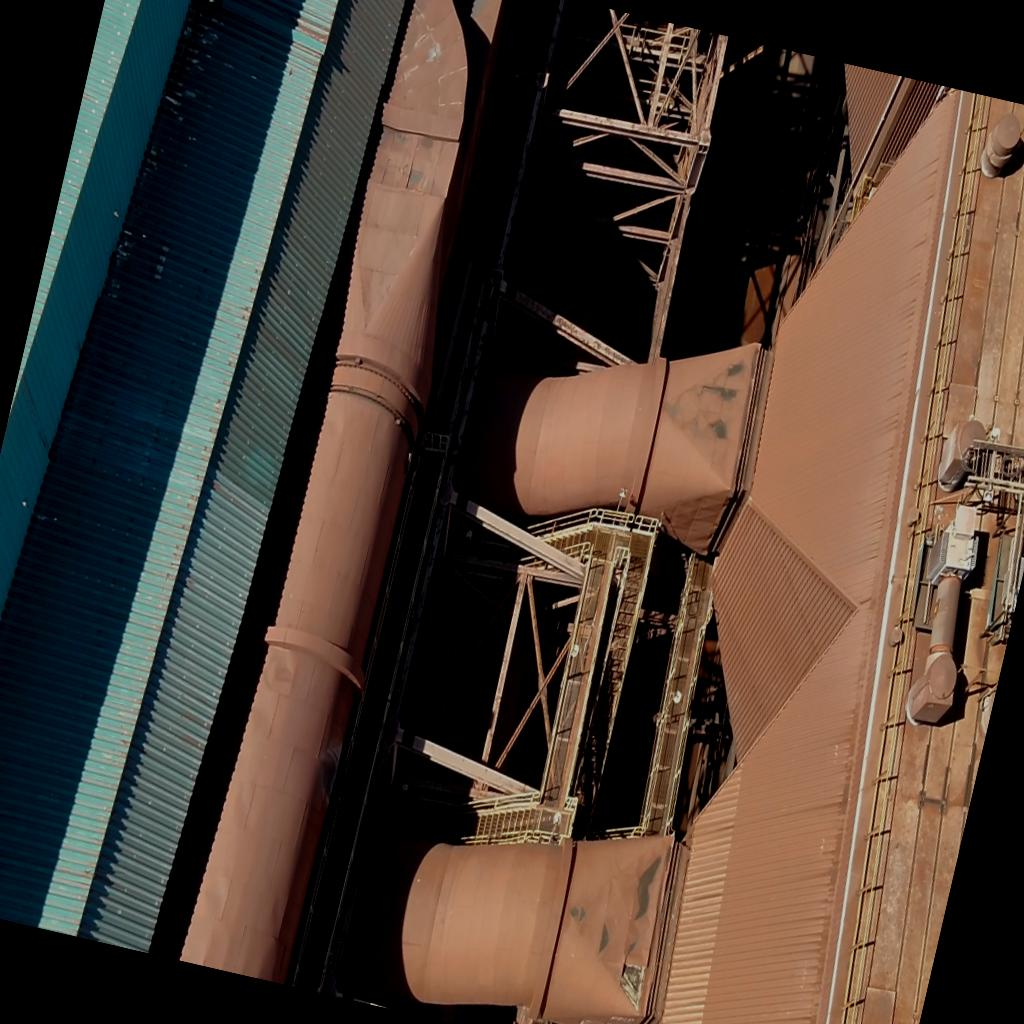Failures: (612, 960, 653, 1012)
